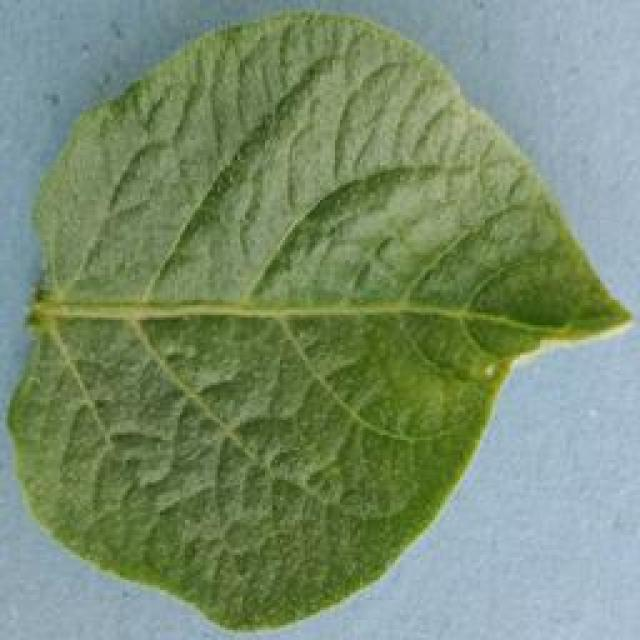Potato_Healthy: (10, 9, 636, 633)
